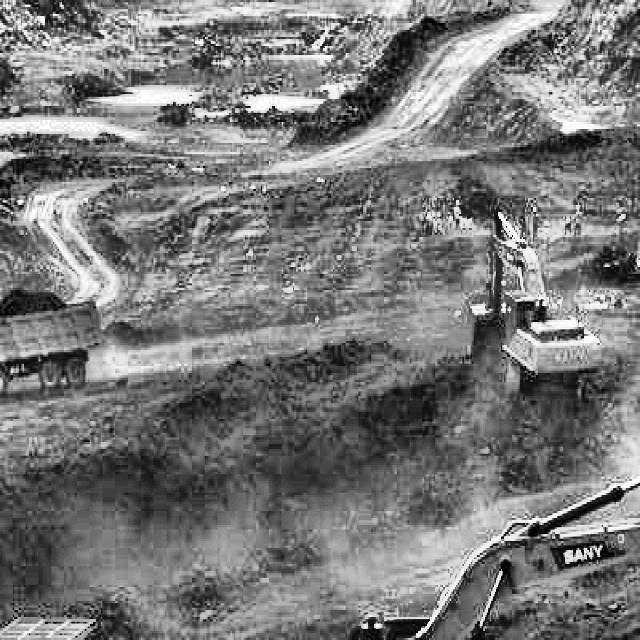dump_truck: (0, 267, 106, 410)
excavator: (251, 458, 640, 640), (473, 192, 598, 428)
